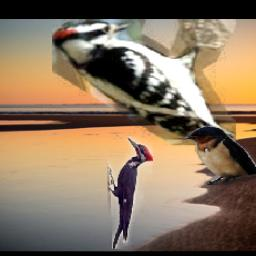Swallow: (182, 125, 256, 185)
Woodpecker: (52, 19, 236, 145), (109, 136, 154, 249)
